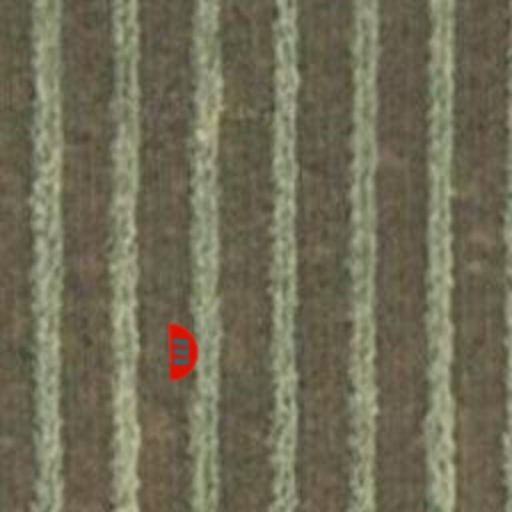semicircle: (154, 322, 214, 382)
